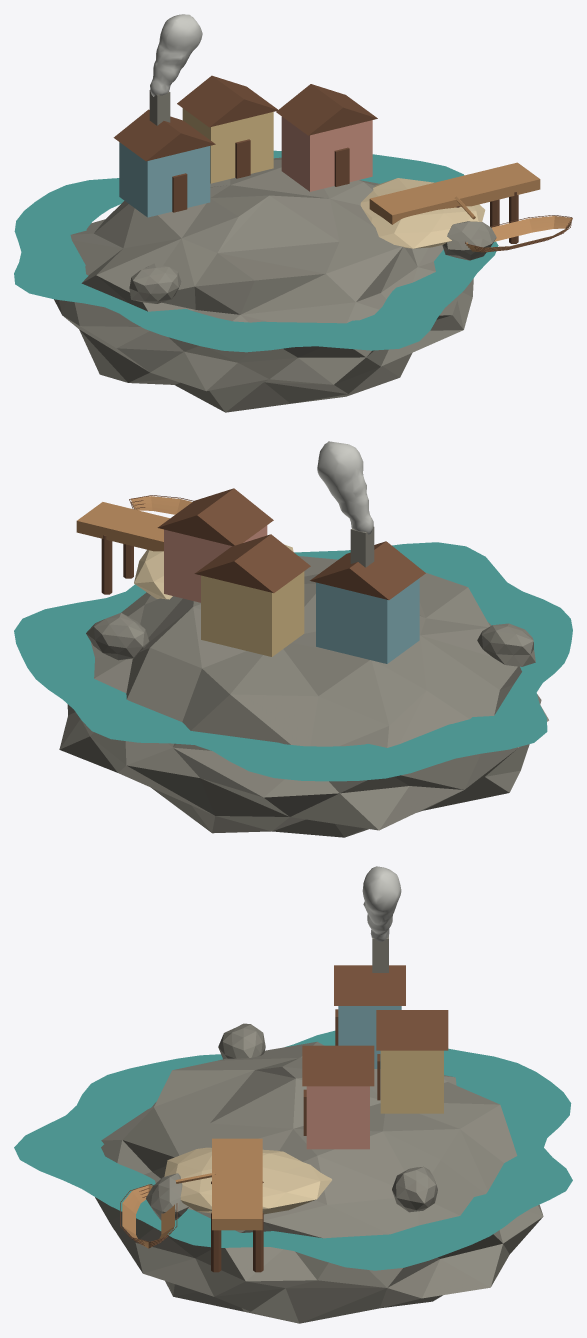
File: diorama-sixth.glb
The picture shows the model from 3 angles, top to bottom: view 1: azimuth 30°, elevation 25°; view 2: azimuth 150°, elevation 25°; view 3: azimuth 270°, elevation 25°; orthographic projection. The views are drawn at different scales.
Parts seen in each view (by area): view 1: Island | lumpy rock raft, Ocean | irregular shore skirt, Village | jetty deck, Village | Blue | walls, Village | Coral | walls, Sand | small beach, Village | Ochre | walls, Village | Ochre | pitched roof, Village | Coral | pitched roof, Village | Blue | pitched roof, Smoke | village wisp, Rock | loose shore stone.001 (+6 smaller); view 2: Island | lumpy rock raft, Ocean | irregular shore skirt, Village | Blue | walls, Village | Ochre | walls, Village | Ochre | pitched roof, Village | Coral | pitched roof, Village | Blue | pitched roof, Smoke | village wisp, Village | Coral | walls, Village | jetty deck, Rock | loose shore stone, Rock | loose shore stone.001 (+4 smaller); view 3: Island | lumpy rock raft, Ocean | irregular shore skirt, Sand | small beach, Village | jetty deck, Village | Coral | walls, Village | Ochre | walls, Village | Coral | pitched roof, Village | Ochre | pitched roof, Village | Blue | pitched roof, Smoke | village wisp, Village | Blue | walls, Rock | loose shore stone (+4 smaller).
Part boxes in pixels (box(x1,y1,x2,y2)): Island | lumpy rock raft: box(54, 157, 473, 412); Ocean | irregular shore skirt: box(14, 150, 498, 352); Village | jetty deck: box(369, 162, 540, 224); Village | Blue | walls: box(119, 142, 210, 217); Village | Coral | walls: box(281, 116, 372, 191); Sand | small beach: box(360, 178, 485, 248); Village | Ochre | walls: box(182, 108, 273, 183); Village | Ochre | pitched roof: box(177, 75, 277, 127); Village | Coral | pitched roof: box(276, 84, 377, 135); Village | Blue | pitched roof: box(113, 109, 215, 161); Smoke | village wisp: box(150, 14, 202, 96); Rock | loose shore stone.001: box(129, 263, 181, 303); Island | lumpy rock raft: box(59, 556, 548, 837); Ocean | irregular shore skirt: box(14, 542, 572, 781); Village | Blue | walls: box(316, 578, 419, 663); Village | Ochre | walls: box(201, 571, 304, 656); Village | Ochre | pitched roof: box(194, 534, 310, 592); Village | Coral | pitched roof: box(157, 488, 273, 546); Village | Blue | pitched roof: box(310, 541, 425, 599); Smoke | village wisp: box(317, 441, 373, 534); Village | Coral | walls: box(164, 525, 267, 602); Village | jetty deck: box(76, 502, 169, 551); Rock | loose shore stone: box(86, 613, 149, 660); Rock | loose shore stone.001: box(477, 623, 535, 666); Island | lumpy rock raft: box(95, 1041, 543, 1323); Ocean | irregular shore skirt: box(14, 1030, 572, 1270); Sand | small beach: box(164, 1147, 331, 1214); Village | jetty deck: box(212, 1138, 262, 1230); Village | Coral | walls: box(306, 1086, 369, 1149); Village | Ochre | walls: box(380, 1050, 443, 1113); Village | Coral | pitched roof: box(302, 1045, 374, 1086); Village | Ochre | pitched roof: box(376, 1010, 448, 1050); Village | Blue | pitched roof: box(334, 965, 405, 1005); Smoke | village wisp: box(362, 866, 401, 941); Village | Blue | walls: box(338, 1006, 401, 1068); Rock | loose shore stone: box(392, 1166, 437, 1212).
Bounding box in the file's own units: 0.2775 × 0.2038 × 0.2651.
